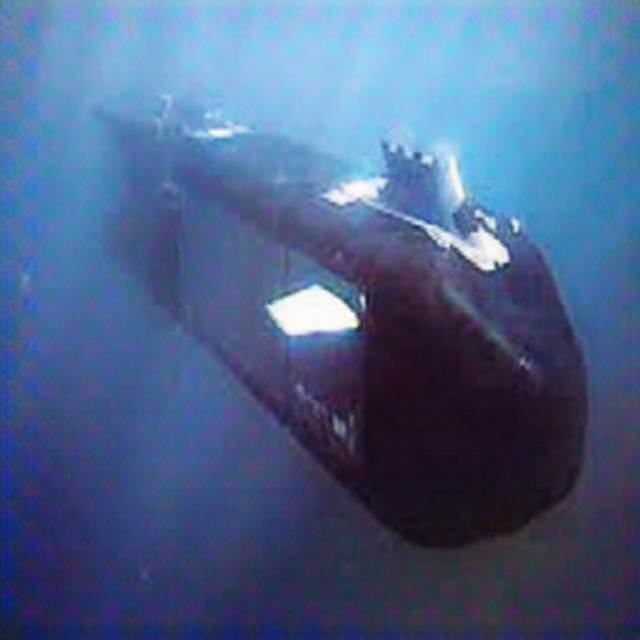submarine: (99, 78, 595, 555)
